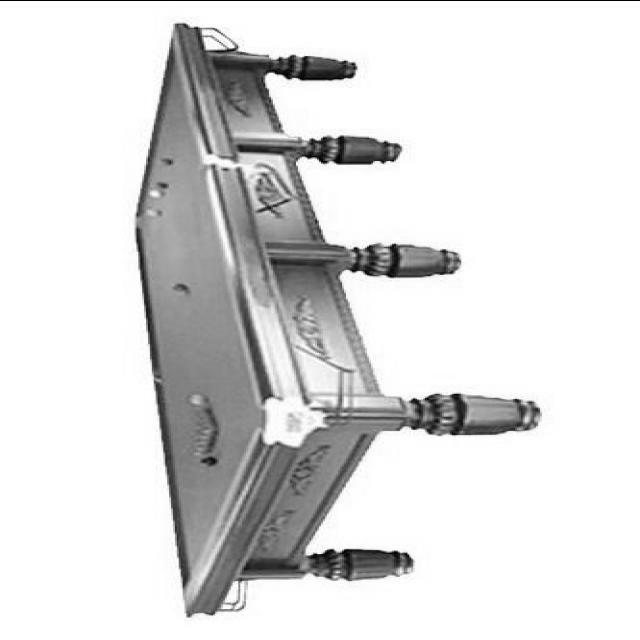table: (124, 25, 542, 615)
